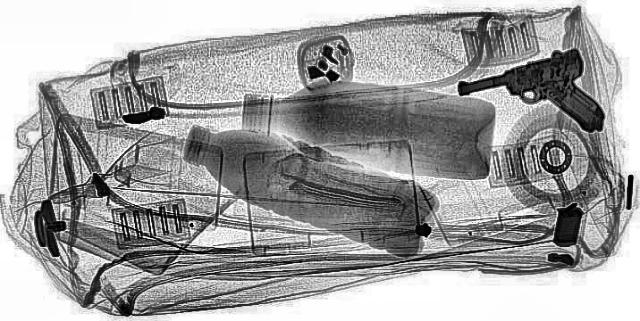Gun: (448, 53, 640, 145)
